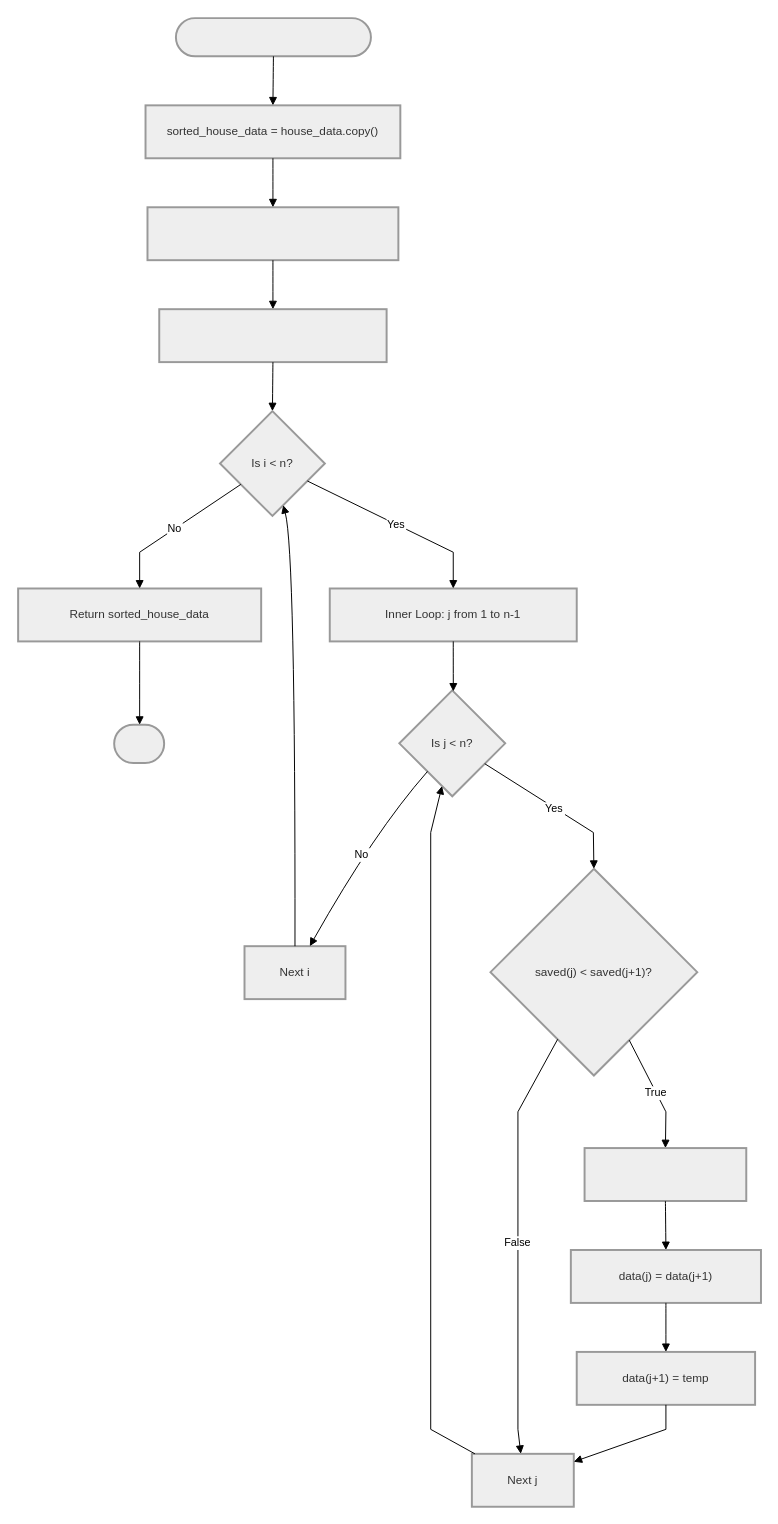
Some shapes in this 778 by 1524 pixel diagram are drawn without their labels. The centre of each missing label's shape, as x and y in pixels:
"End" goes at pixel 139 743.
"n = len(sorted_house_data)" goes at pixel 272 233.
"Outer Loop: i in range n" goes at pixel 272 335.
"Start sort_house_energy" goes at pixel 272 37.
"temp = data(j)" goes at pixel 665 1174.
